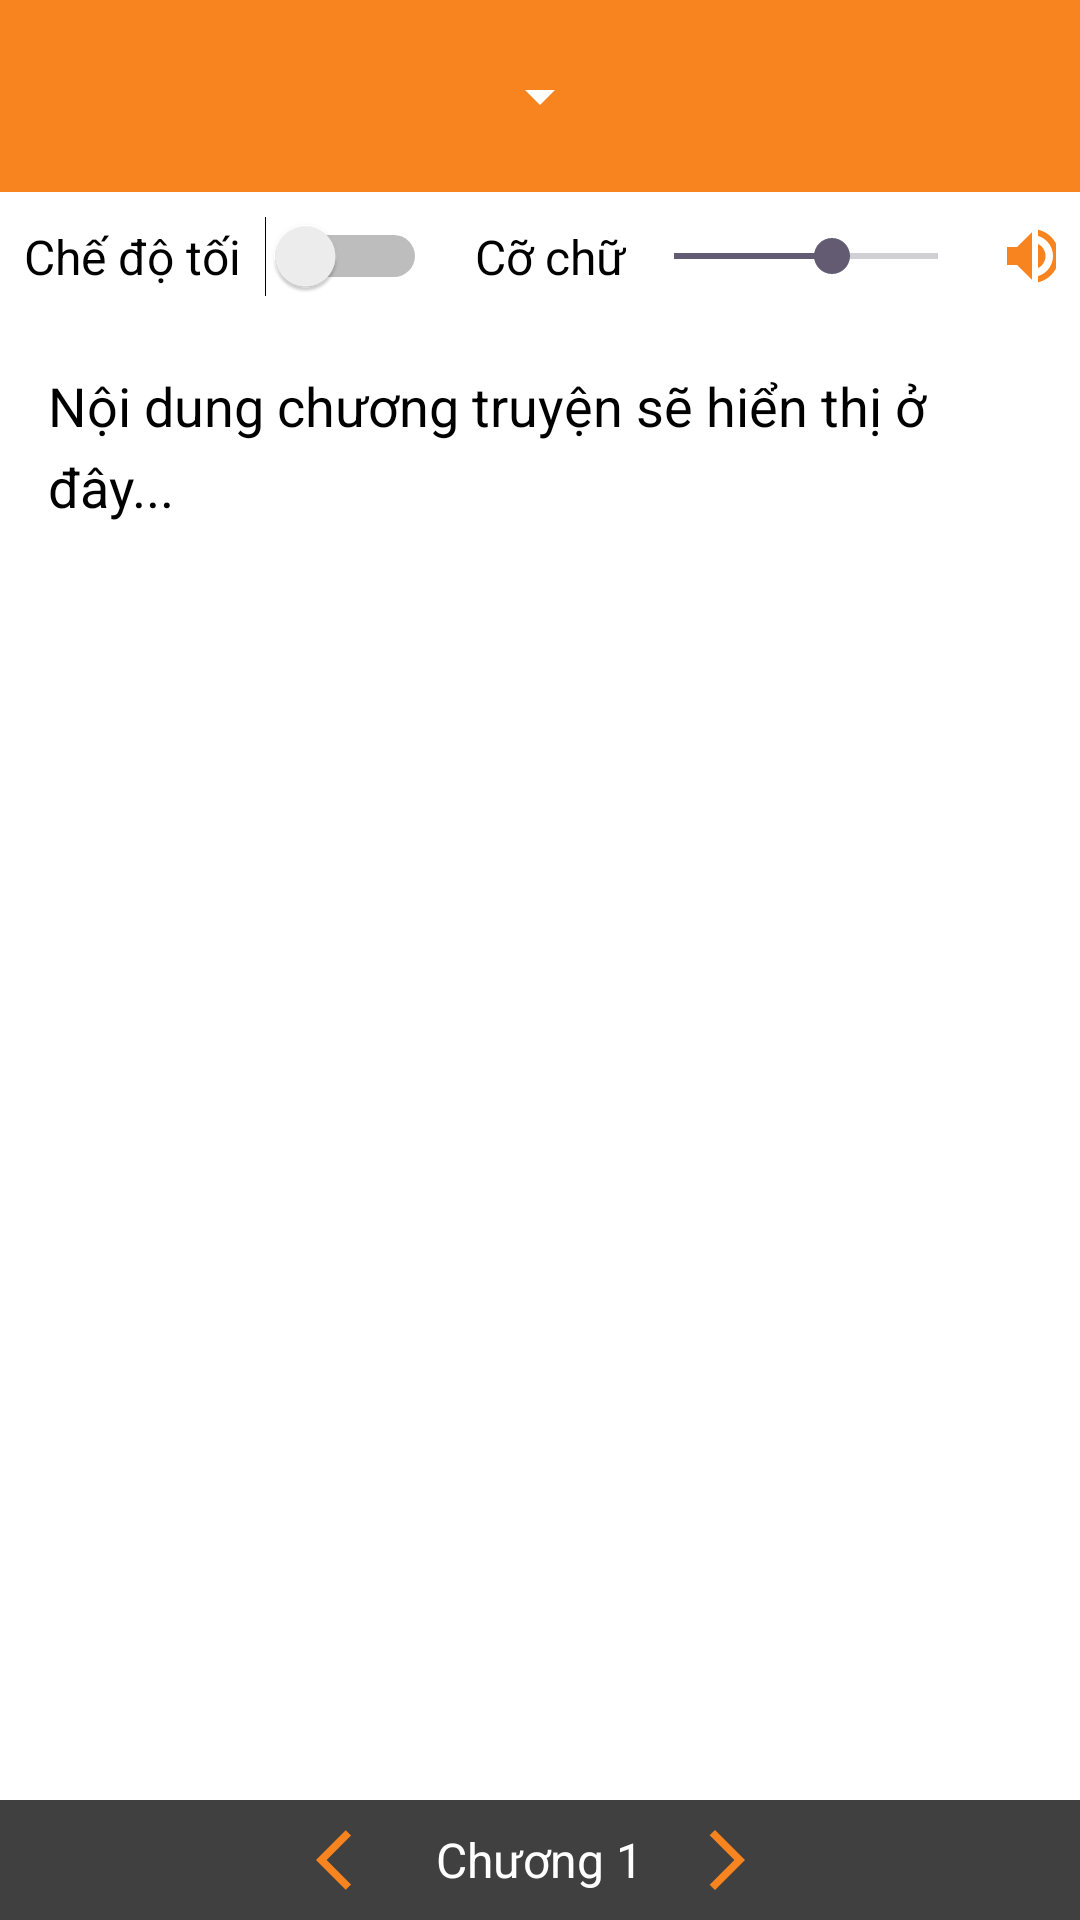

Where to tap for icons on this 1080px×1920px app screen, as (x=x, y=y):
arrow back: (x=333, y=1860)
arrow forward: (x=727, y=1860)
volume up: (x=1031, y=256)
